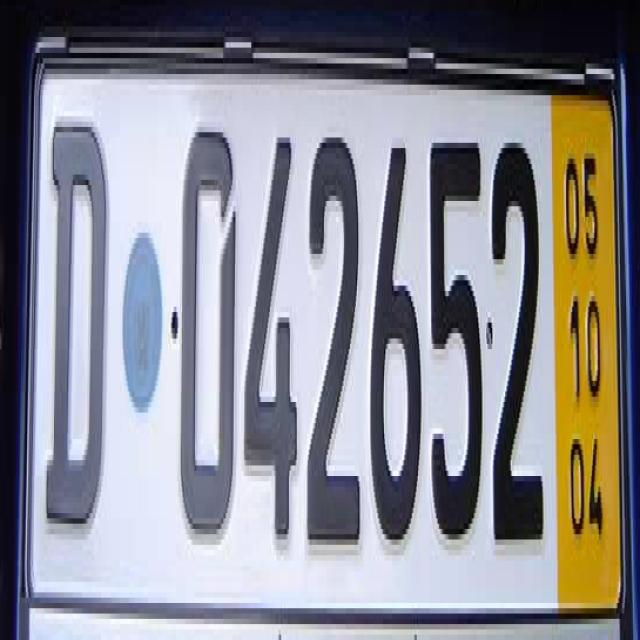Autre: (22, 54, 620, 610)
